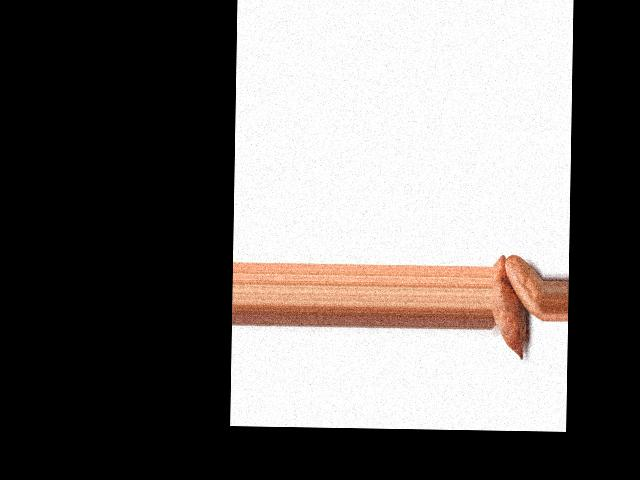sweet_potato: (505, 254, 544, 324)
